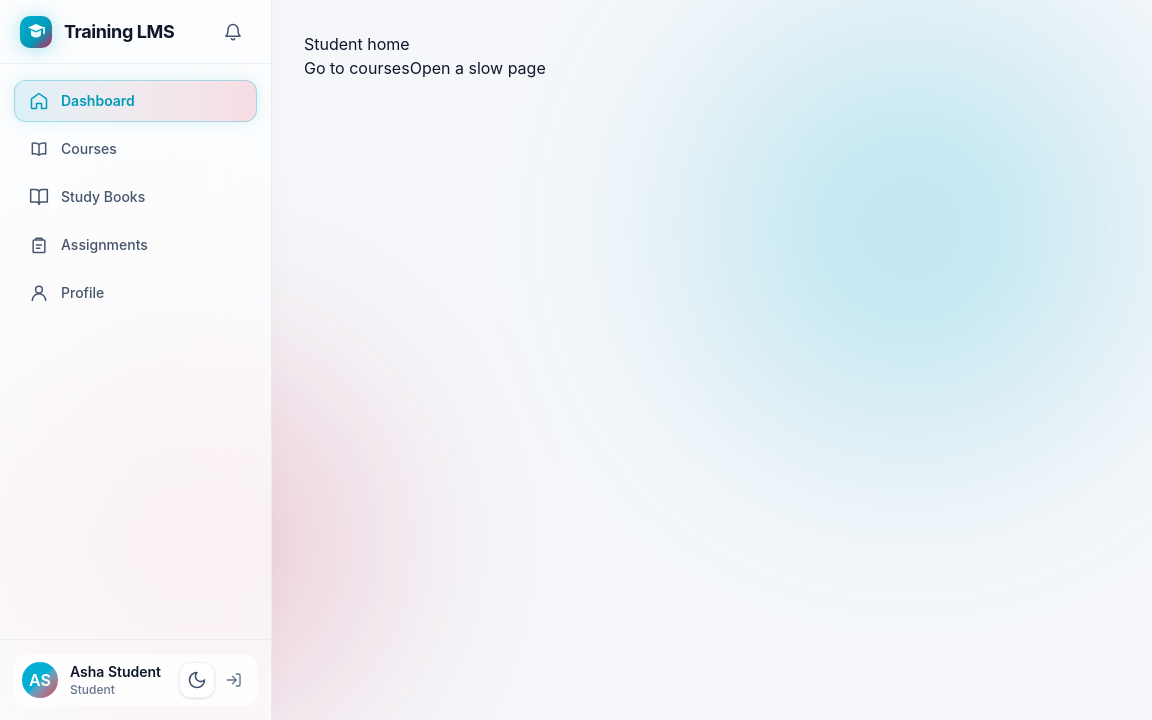
Test: DashboardLayout › names the tab after the page and moves focus to the new page on navigation
expect the heading "Student home" is shown: met, box [304, 34, 410, 54]
Click the link "Go to courses". click: click(357, 68)
box: [304, 58, 410, 78]
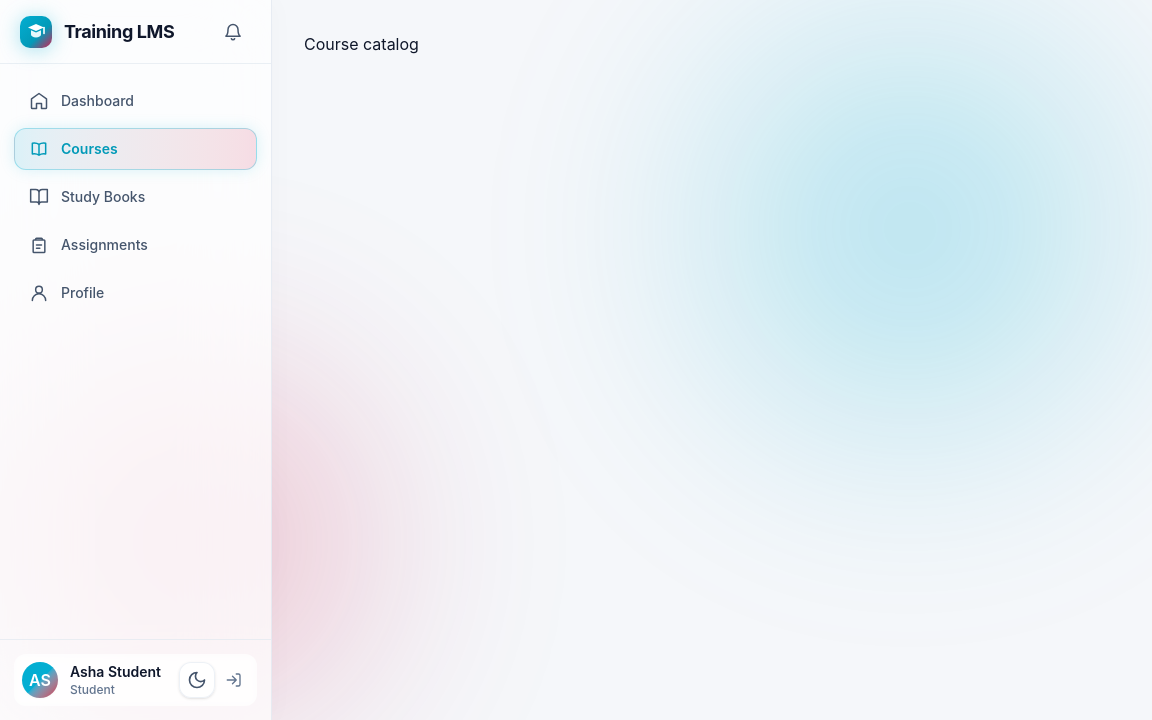
expect the heading "Course catalog" is shown: met, box [304, 34, 419, 54]
